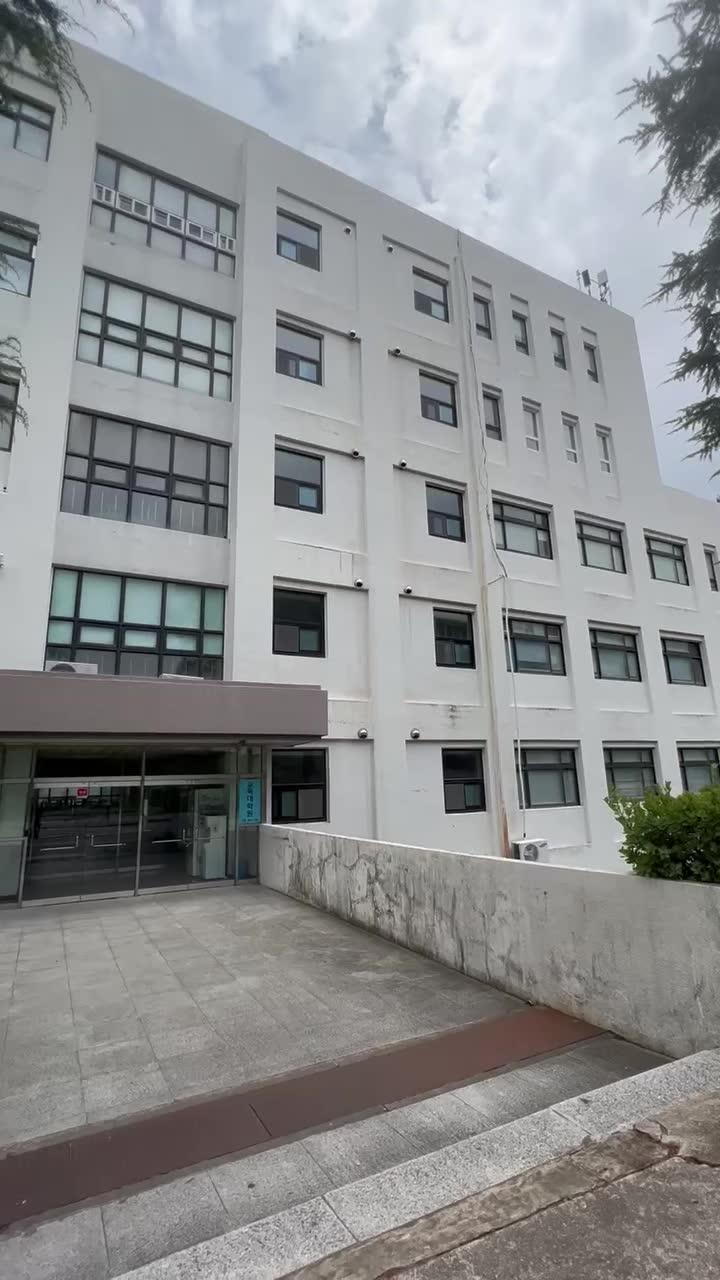building: (30, 146, 626, 848)
